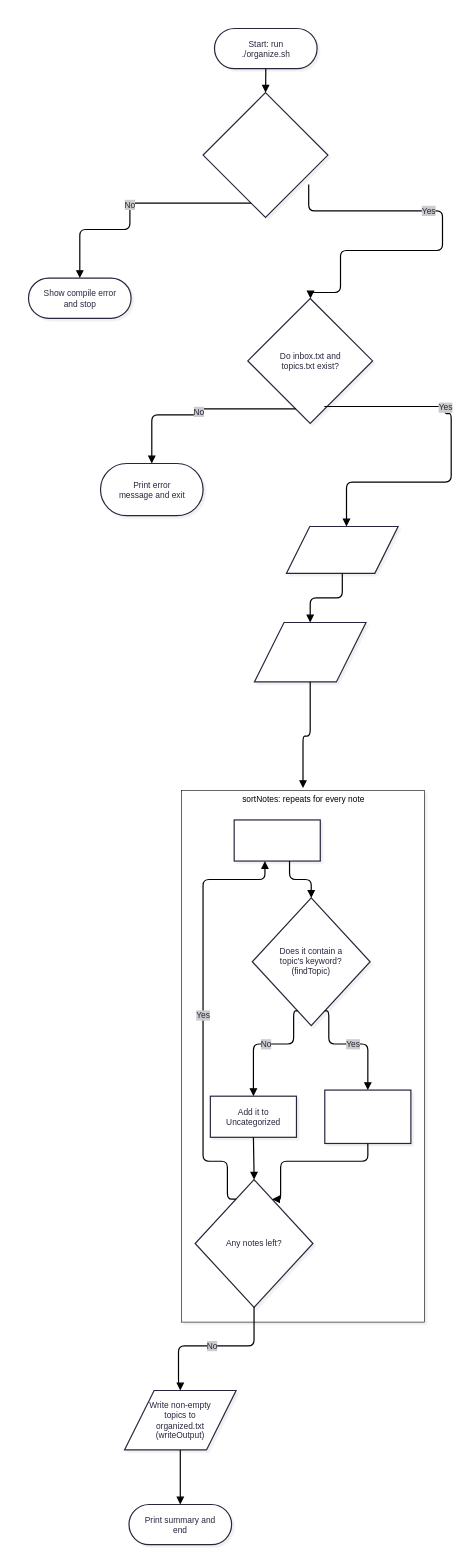
Some shapes in this 468 by 1558 pixel diagram are drawn without their labels. Here are the shapes that lost their labels. From the top down, the centre of each, then its label:
At (x=266, y=156): "Does the Java code compile?".
At (x=343, y=551): "Read notes from inbox.txt (readNotes)".
At (x=311, y=653): "Load topics and keywords from topics.txt (loadTopics)".
At (x=278, y=841): "Take the next note".
At (x=369, y=1117): "Add it to the first matching topic".
